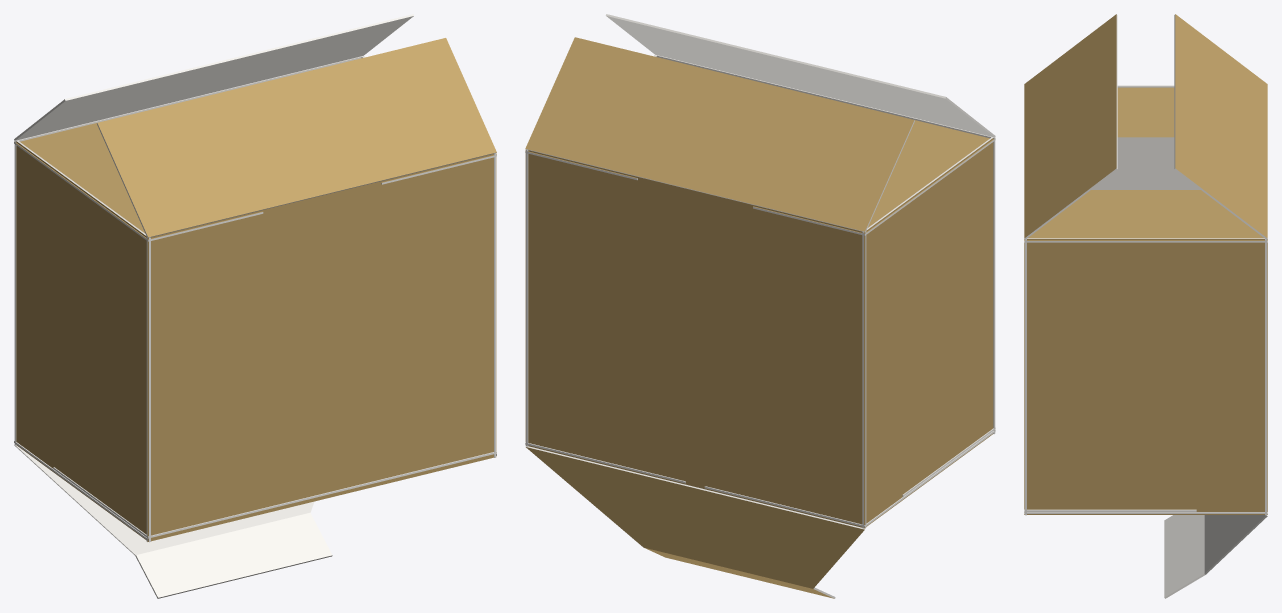
The picture shows the model from 3 angles, left to right: view 1: azimuth 30°, elevation 25°; view 2: azimuth 150°, elevation 25°; view 3: azimuth 270°, elevation 25°; orthographic projection. The views are drawn at different scales.
Parts seen in each view (by area): view 1: Packive_Box_fefco0216; view 2: Packive_Box_fefco0216; view 3: Packive_Box_fefco0216.
Part boxes in pixels (left/top/right/bottom): Packive_Box_fefco0216: left=14, top=14, right=496, bottom=598; Packive_Box_fefco0216: left=525, top=14, right=995, bottom=598; Packive_Box_fefco0216: left=1024, top=14, right=1267, bottom=598.
Size of the model in its own units: 0.3 by 0.425 by 0.2.
Materials: 26 (13 with a texture image).
